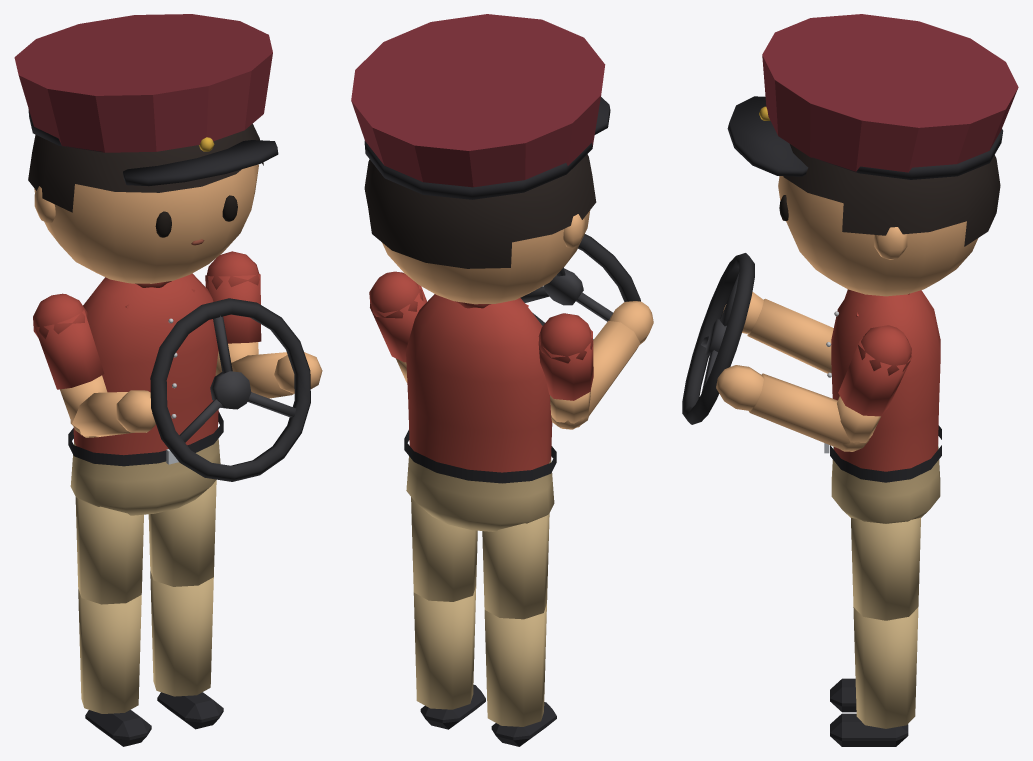
The model's file is north_bus_driver.glb.
The picture shows the model from 3 angles, left to right: view 1: azimuth 30°, elevation 25°; view 2: azimuth 150°, elevation 25°; view 3: azimuth 270°, elevation 25°; orthographic projection.
Visible parts, largest first — view 1: head, body, prop_steering_wheel, shin_L, shin_R, leg_R, arm_R, leg_L, arm_L, forearm_R, forearm_L; view 2: head, body, shin_L, shin_R, leg_R, leg_L, arm_R, forearm_R, arm_L, prop_steering_wheel; view 3: head, body, shin_L, leg_L, prop_steering_wheel, arm_L, forearm_L, forearm_R, shin_R.
Boxes of the visible parts, bbox=[...] form: head: bbox=[14, 14, 278, 283]; body: bbox=[68, 273, 223, 515]; prop_steering_wheel: bbox=[150, 298, 310, 481]; shin_L: bbox=[150, 571, 223, 729]; shin_R: bbox=[78, 589, 151, 746]; leg_R: bbox=[75, 497, 143, 604]; arm_R: bbox=[33, 293, 107, 437]; leg_L: bbox=[148, 480, 216, 586]; arm_L: bbox=[205, 251, 261, 375]; forearm_R: bbox=[70, 390, 155, 436]; forearm_L: bbox=[231, 352, 322, 398]; head: bbox=[351, 14, 610, 304]; body: bbox=[404, 294, 556, 531]; shin_L: bbox=[413, 586, 485, 729]; shin_R: bbox=[484, 603, 556, 746]; leg_R: bbox=[482, 513, 549, 619]; leg_L: bbox=[411, 497, 477, 601]; arm_R: bbox=[538, 313, 593, 429]; forearm_R: bbox=[551, 301, 653, 428]; arm_L: bbox=[369, 271, 427, 382]; prop_steering_wheel: bbox=[520, 234, 640, 339]; head: bbox=[727, 14, 1018, 296]; body: bbox=[824, 290, 941, 523]; shin_L: bbox=[830, 607, 918, 746]; leg_L: bbox=[851, 517, 920, 620]; prop_steering_wheel: bbox=[682, 253, 754, 424]; arm_L: bbox=[837, 325, 912, 451]; forearm_L: bbox=[716, 365, 869, 451]; forearm_R: bbox=[723, 292, 833, 373]; shin_R: bbox=[830, 678, 856, 712].
Size of the model in its own units: 0.5247 by 1.53 by 0.6958.
